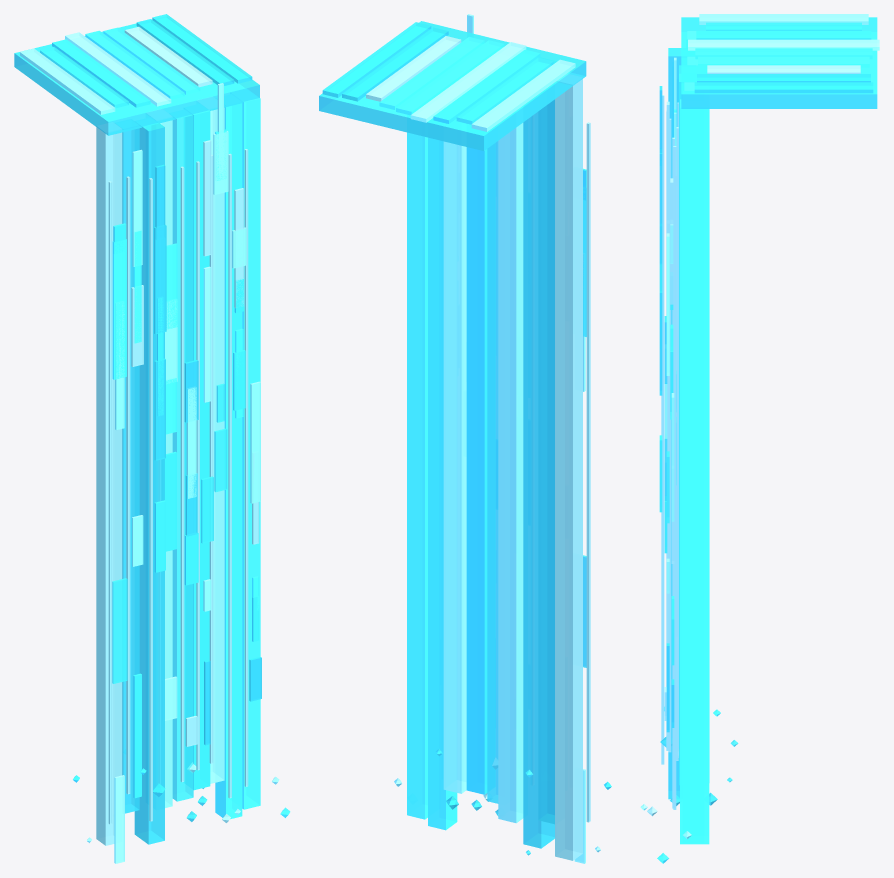
File: WF-002-water.glb
The picture shows the model from 3 angles, left to right: view 1: azimuth 30°, elevation 25°; view 2: azimuth 150°, elevation 25°; view 3: azimuth 270°, elevation 25°; orthographic projection. The views are drawn at different scales.
Visible parts, largest first — view 1: Low-poly waterfall; view 2: Low-poly waterfall; view 3: Low-poly waterfall.
Part boxes in pixels (x1=…): Low-poly waterfall: x1=14, y1=14, x2=290, y2=863; Low-poly waterfall: x1=319, y1=14, x2=611, y2=863; Low-poly waterfall: x1=640, y1=14, x2=879, y2=863.
Size of the model in its own units: 1.08 by 3.8 by 1.05.
